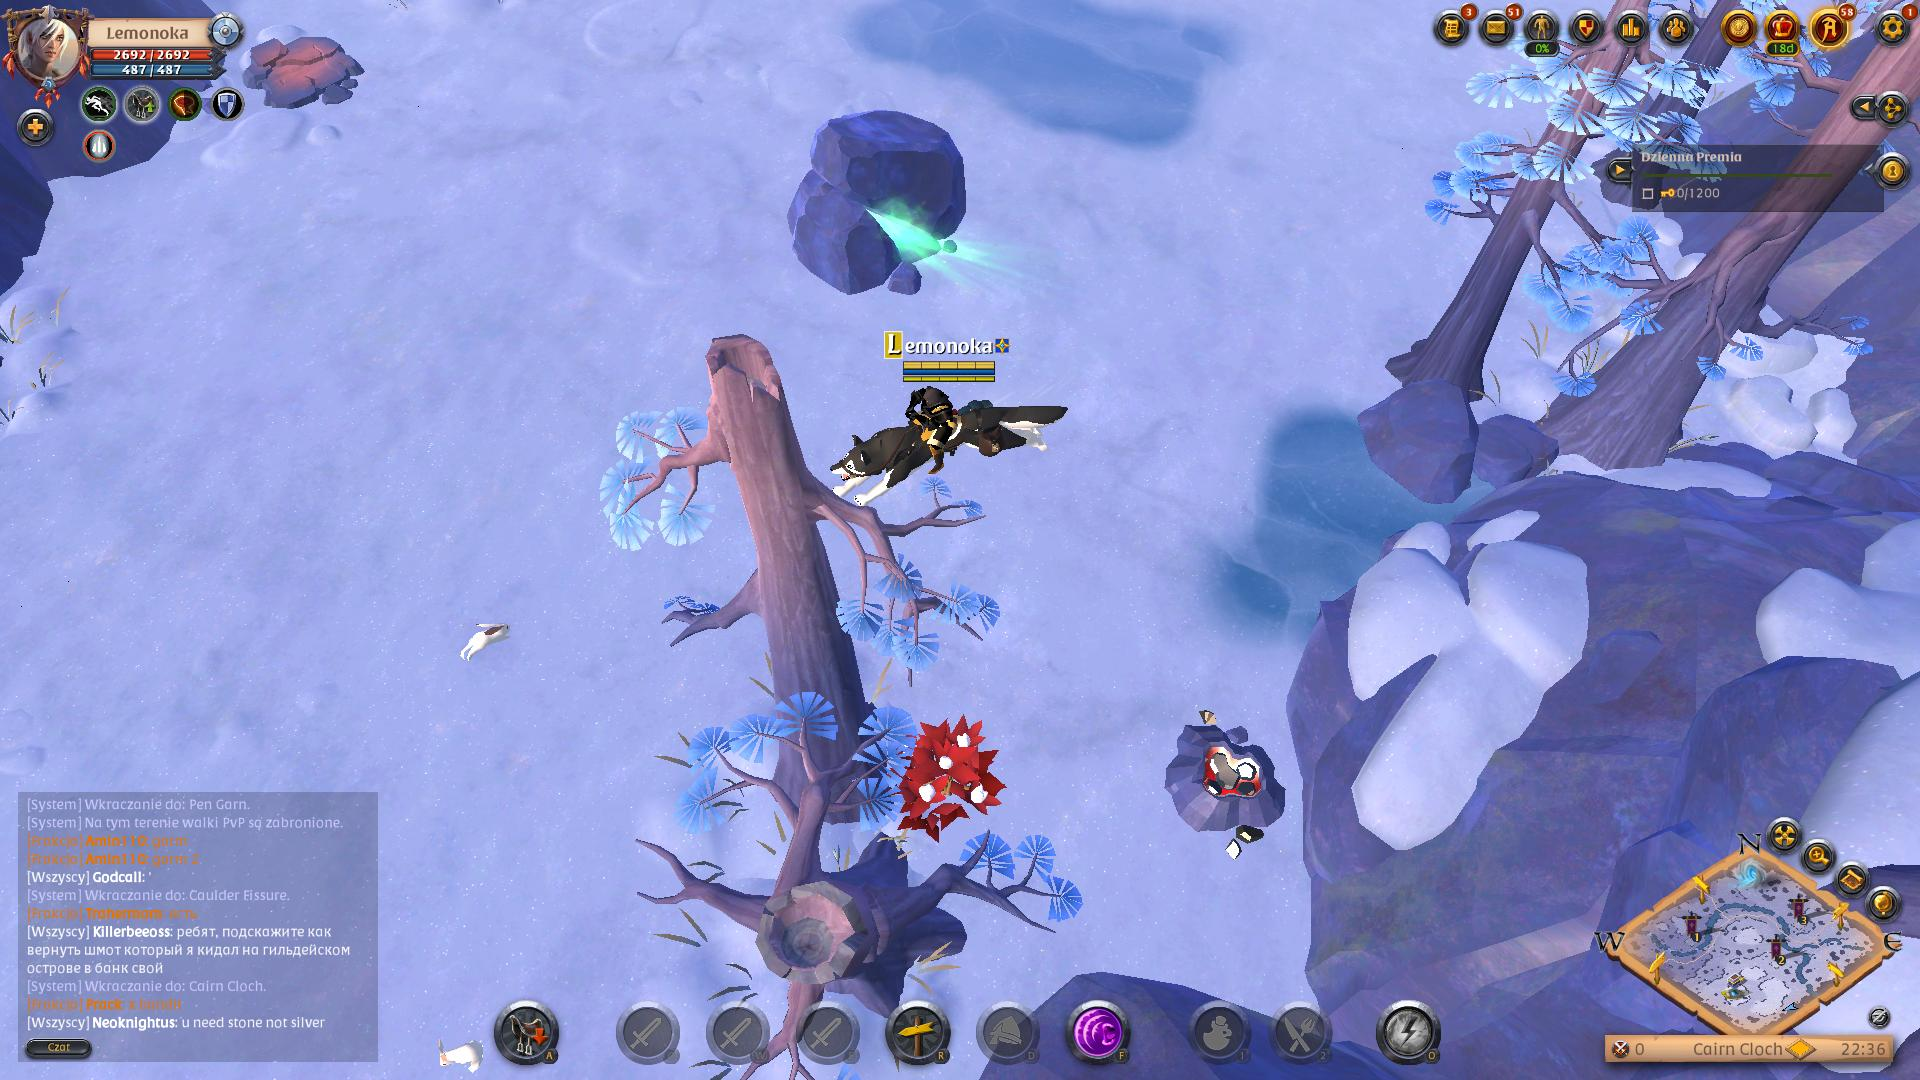fiber tier 5: (895, 713, 1005, 845)
